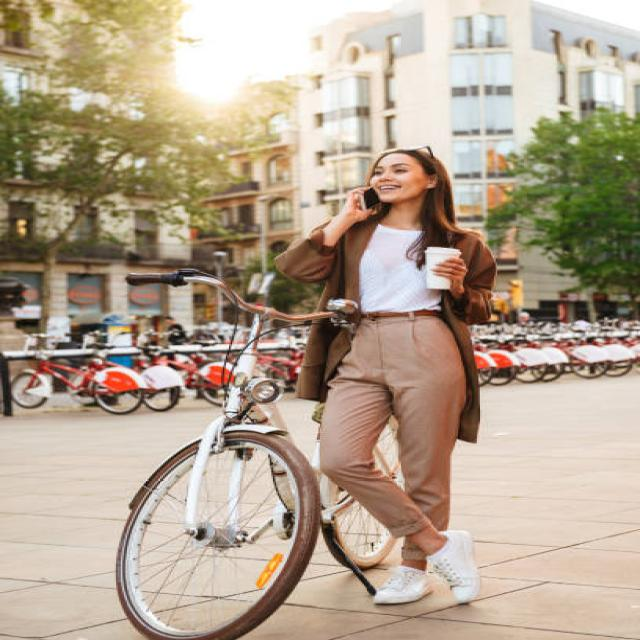bicycle: (116, 150, 495, 639)
